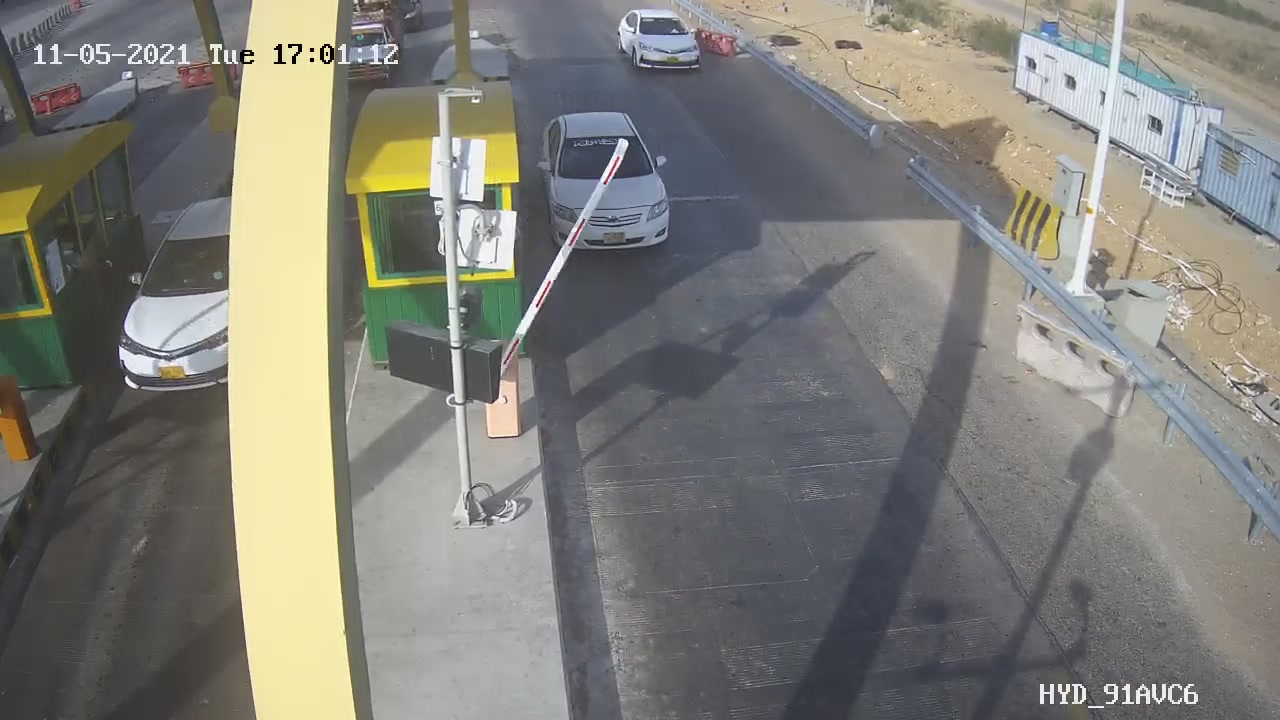F1: (524, 96, 704, 266)
